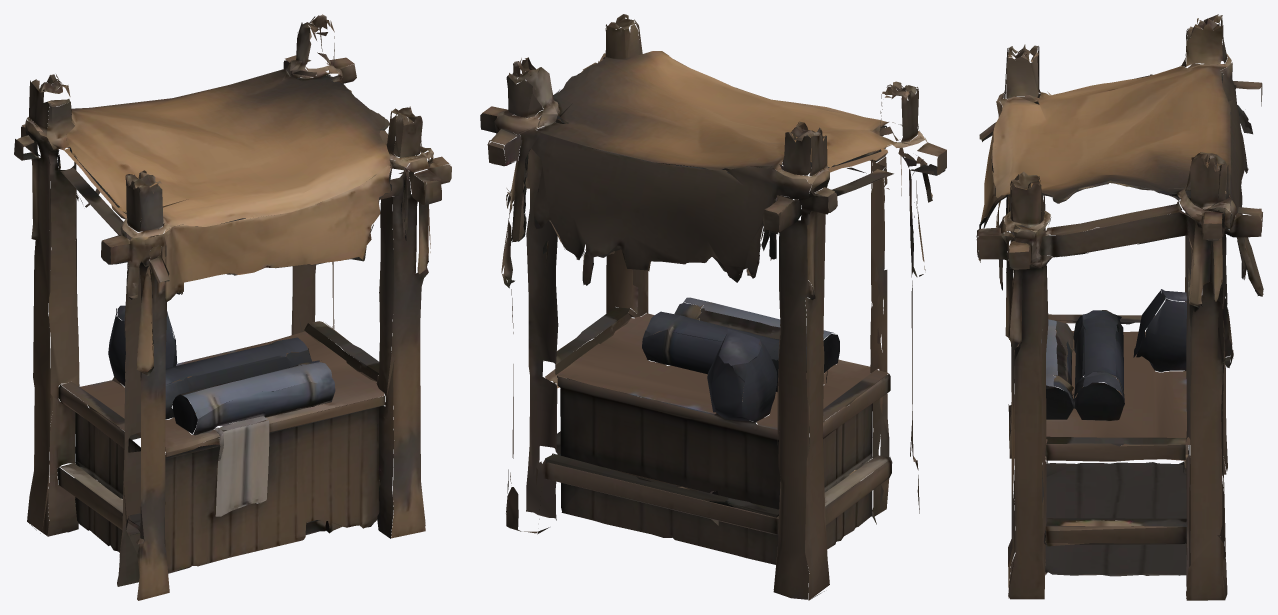
The model's file is marketAwning.glb.
3 views of the same model, side by side, from view 1: azimuth 30°, elevation 25°; view 2: azimuth 150°, elevation 25°; view 3: azimuth 270°, elevation 25° (orthographic). The views are drawn at different scales.
Visible parts, largest first — view 1: Prop_marketAwning; view 2: Prop_marketAwning; view 3: Prop_marketAwning.
Part boxes in pixels (x1,y1,x2,y2): Prop_marketAwning: (14, 14, 451, 600); Prop_marketAwning: (480, 14, 946, 600); Prop_marketAwning: (976, 14, 1263, 600).
Size of the model in its own units: 2.73 by 3.4 by 1.98.
Materials: 1 (1 with a texture image).
